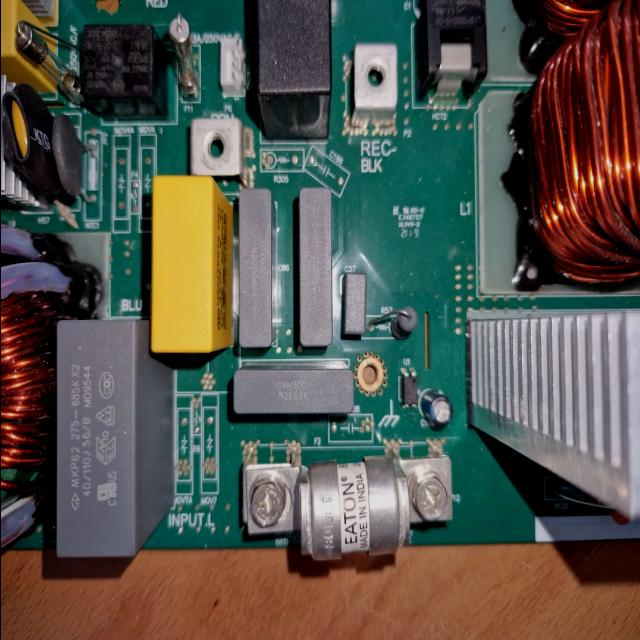A: (510, 0, 640, 296), (0, 222, 56, 560)
B: (236, 454, 448, 562)
